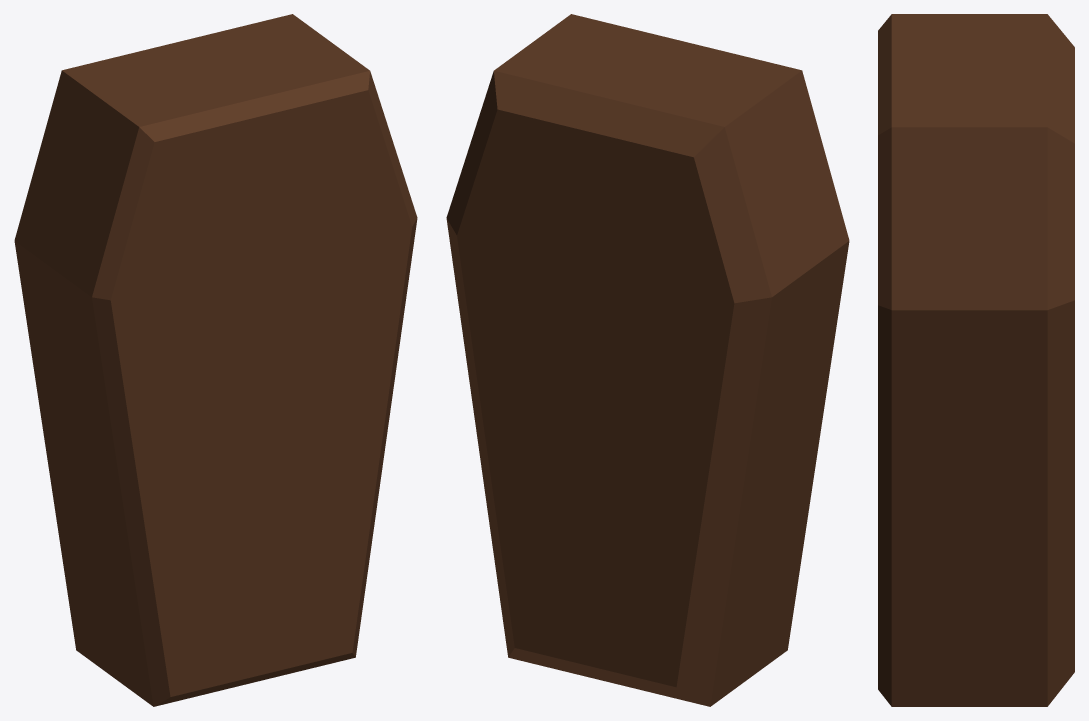
The model's file is coffinModel.fbx.
3 views of the same model, side by side, from view 1: azimuth 30°, elevation 25°; view 2: azimuth 150°, elevation 25°; view 3: azimuth 270°, elevation 25° (orthographic).
Visible parts, largest first — view 1: coffinModel; view 2: coffinModel; view 3: coffinModel.
Boxes of the visible parts, x1,y1,x2,y2 form: coffinModel: [14, 14, 417, 706]; coffinModel: [446, 14, 849, 706]; coffinModel: [878, 14, 1074, 706].
Size of the model in its own units: 26.46 by 45.31 by 13.77.
